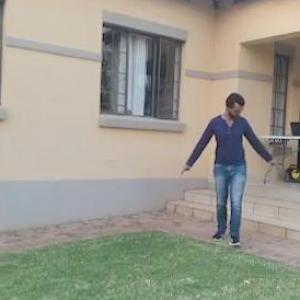land: (175, 88, 278, 257)
